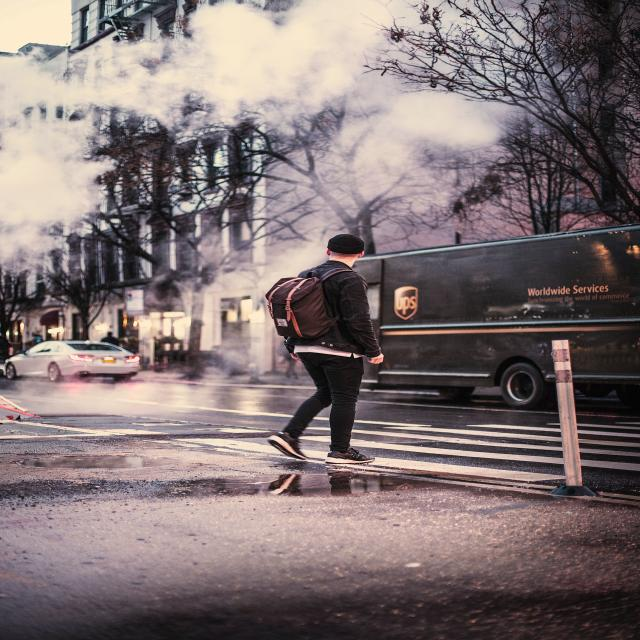backpack: (256, 264, 362, 340)
